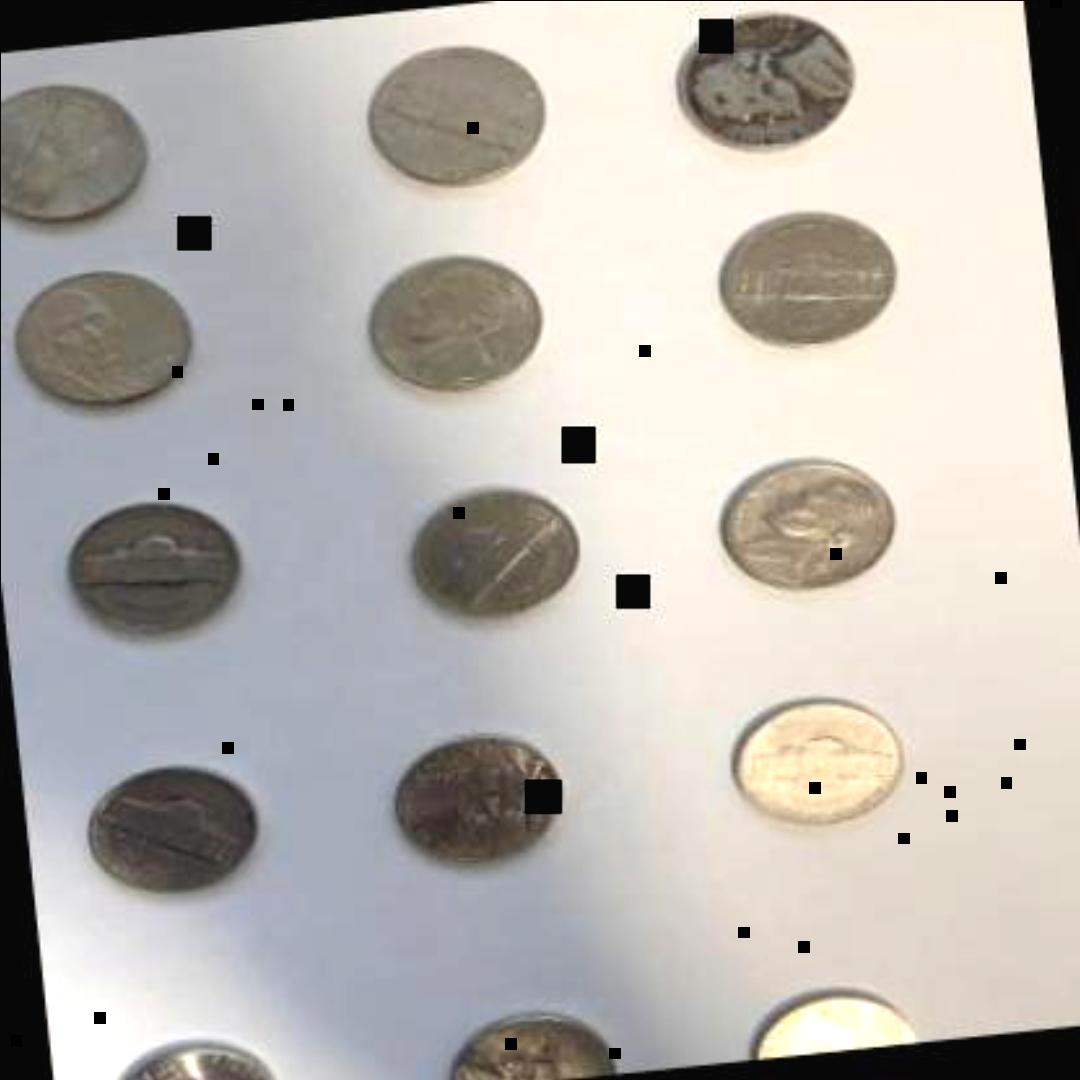Nickel: (352, 30, 570, 206), (670, 1, 878, 174), (48, 478, 260, 646), (384, 476, 598, 638), (714, 440, 918, 606), (9, 255, 208, 421), (724, 680, 920, 846), (712, 199, 909, 359), (362, 242, 552, 402), (388, 717, 572, 877), (82, 750, 272, 904), (0, 70, 158, 236), (741, 969, 930, 1059), (444, 994, 624, 1080), (101, 1026, 298, 1080)
